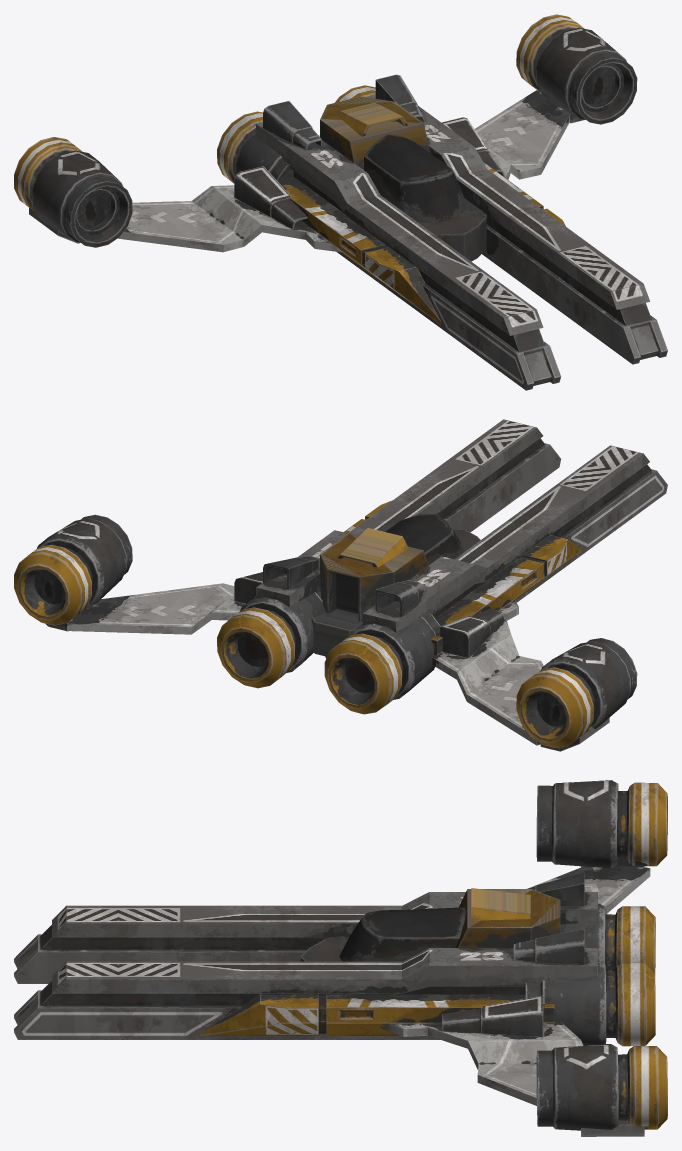
The model's file is quaternius-spaceships-executioner.glb.
The picture shows the model from 3 angles, top to bottom: view 1: azimuth 30°, elevation 25°; view 2: azimuth 150°, elevation 25°; view 3: azimuth 270°, elevation 25°; orthographic projection. The views are drawn at different scales.
Visible parts, largest first — view 1: Executioner; view 2: Executioner; view 3: Executioner.
Boxes of the visible parts, box(x1,y1,x2,y2) form: Executioner: box(14, 14, 667, 390); Executioner: box(14, 419, 667, 751); Executioner: box(14, 780, 667, 1136).
Bounding box in the file's own units: 10.02 × 1.85 × 9.2.
1 material, 1 textured.
